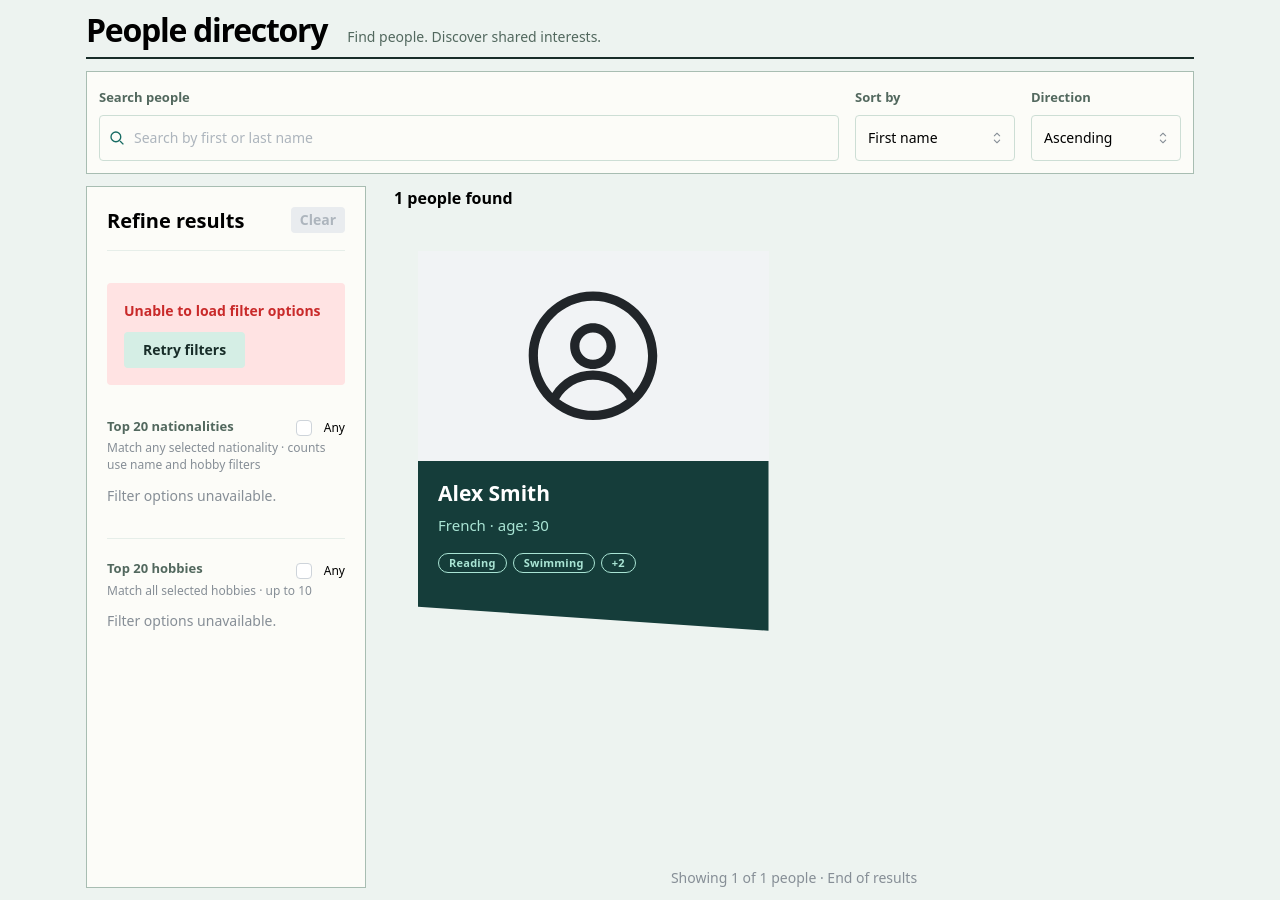
it: retries filter options independently while keeping loaded cards visible
Expected: the element showing "Alex Smith French · age: 30 Reading Swimming +2" is shown, [418,251,768,631]
Expected: the text "Unable to load filter options" is shown, [124,300,321,322]
Click the button "Retry filters".
click(185, 350)  # box [124,332,245,368]
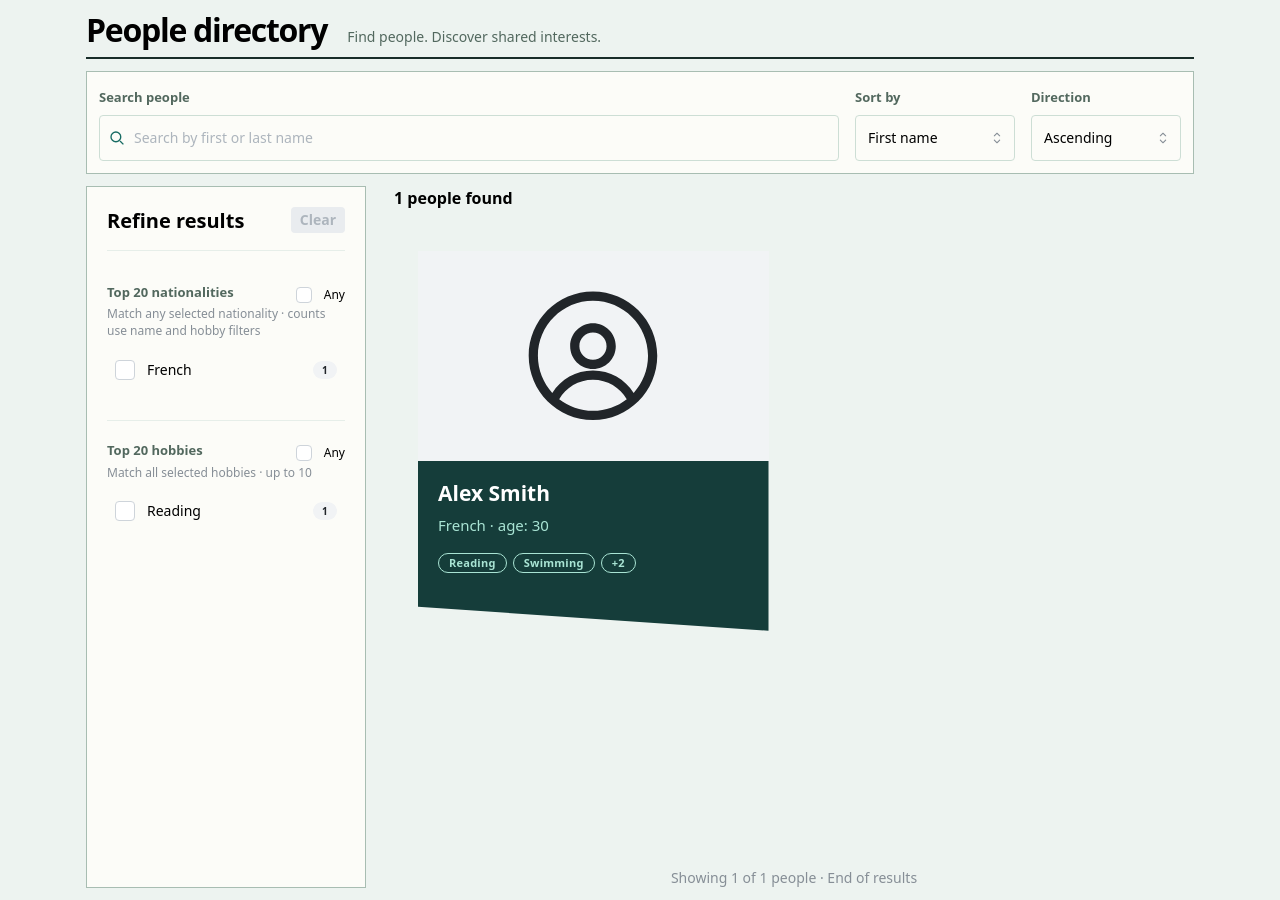
Expected: the checkbox labelled "Reading" is shown, [115,501,135,521]
Expected: the message "Unable to load filter options Retry filters" is gone
